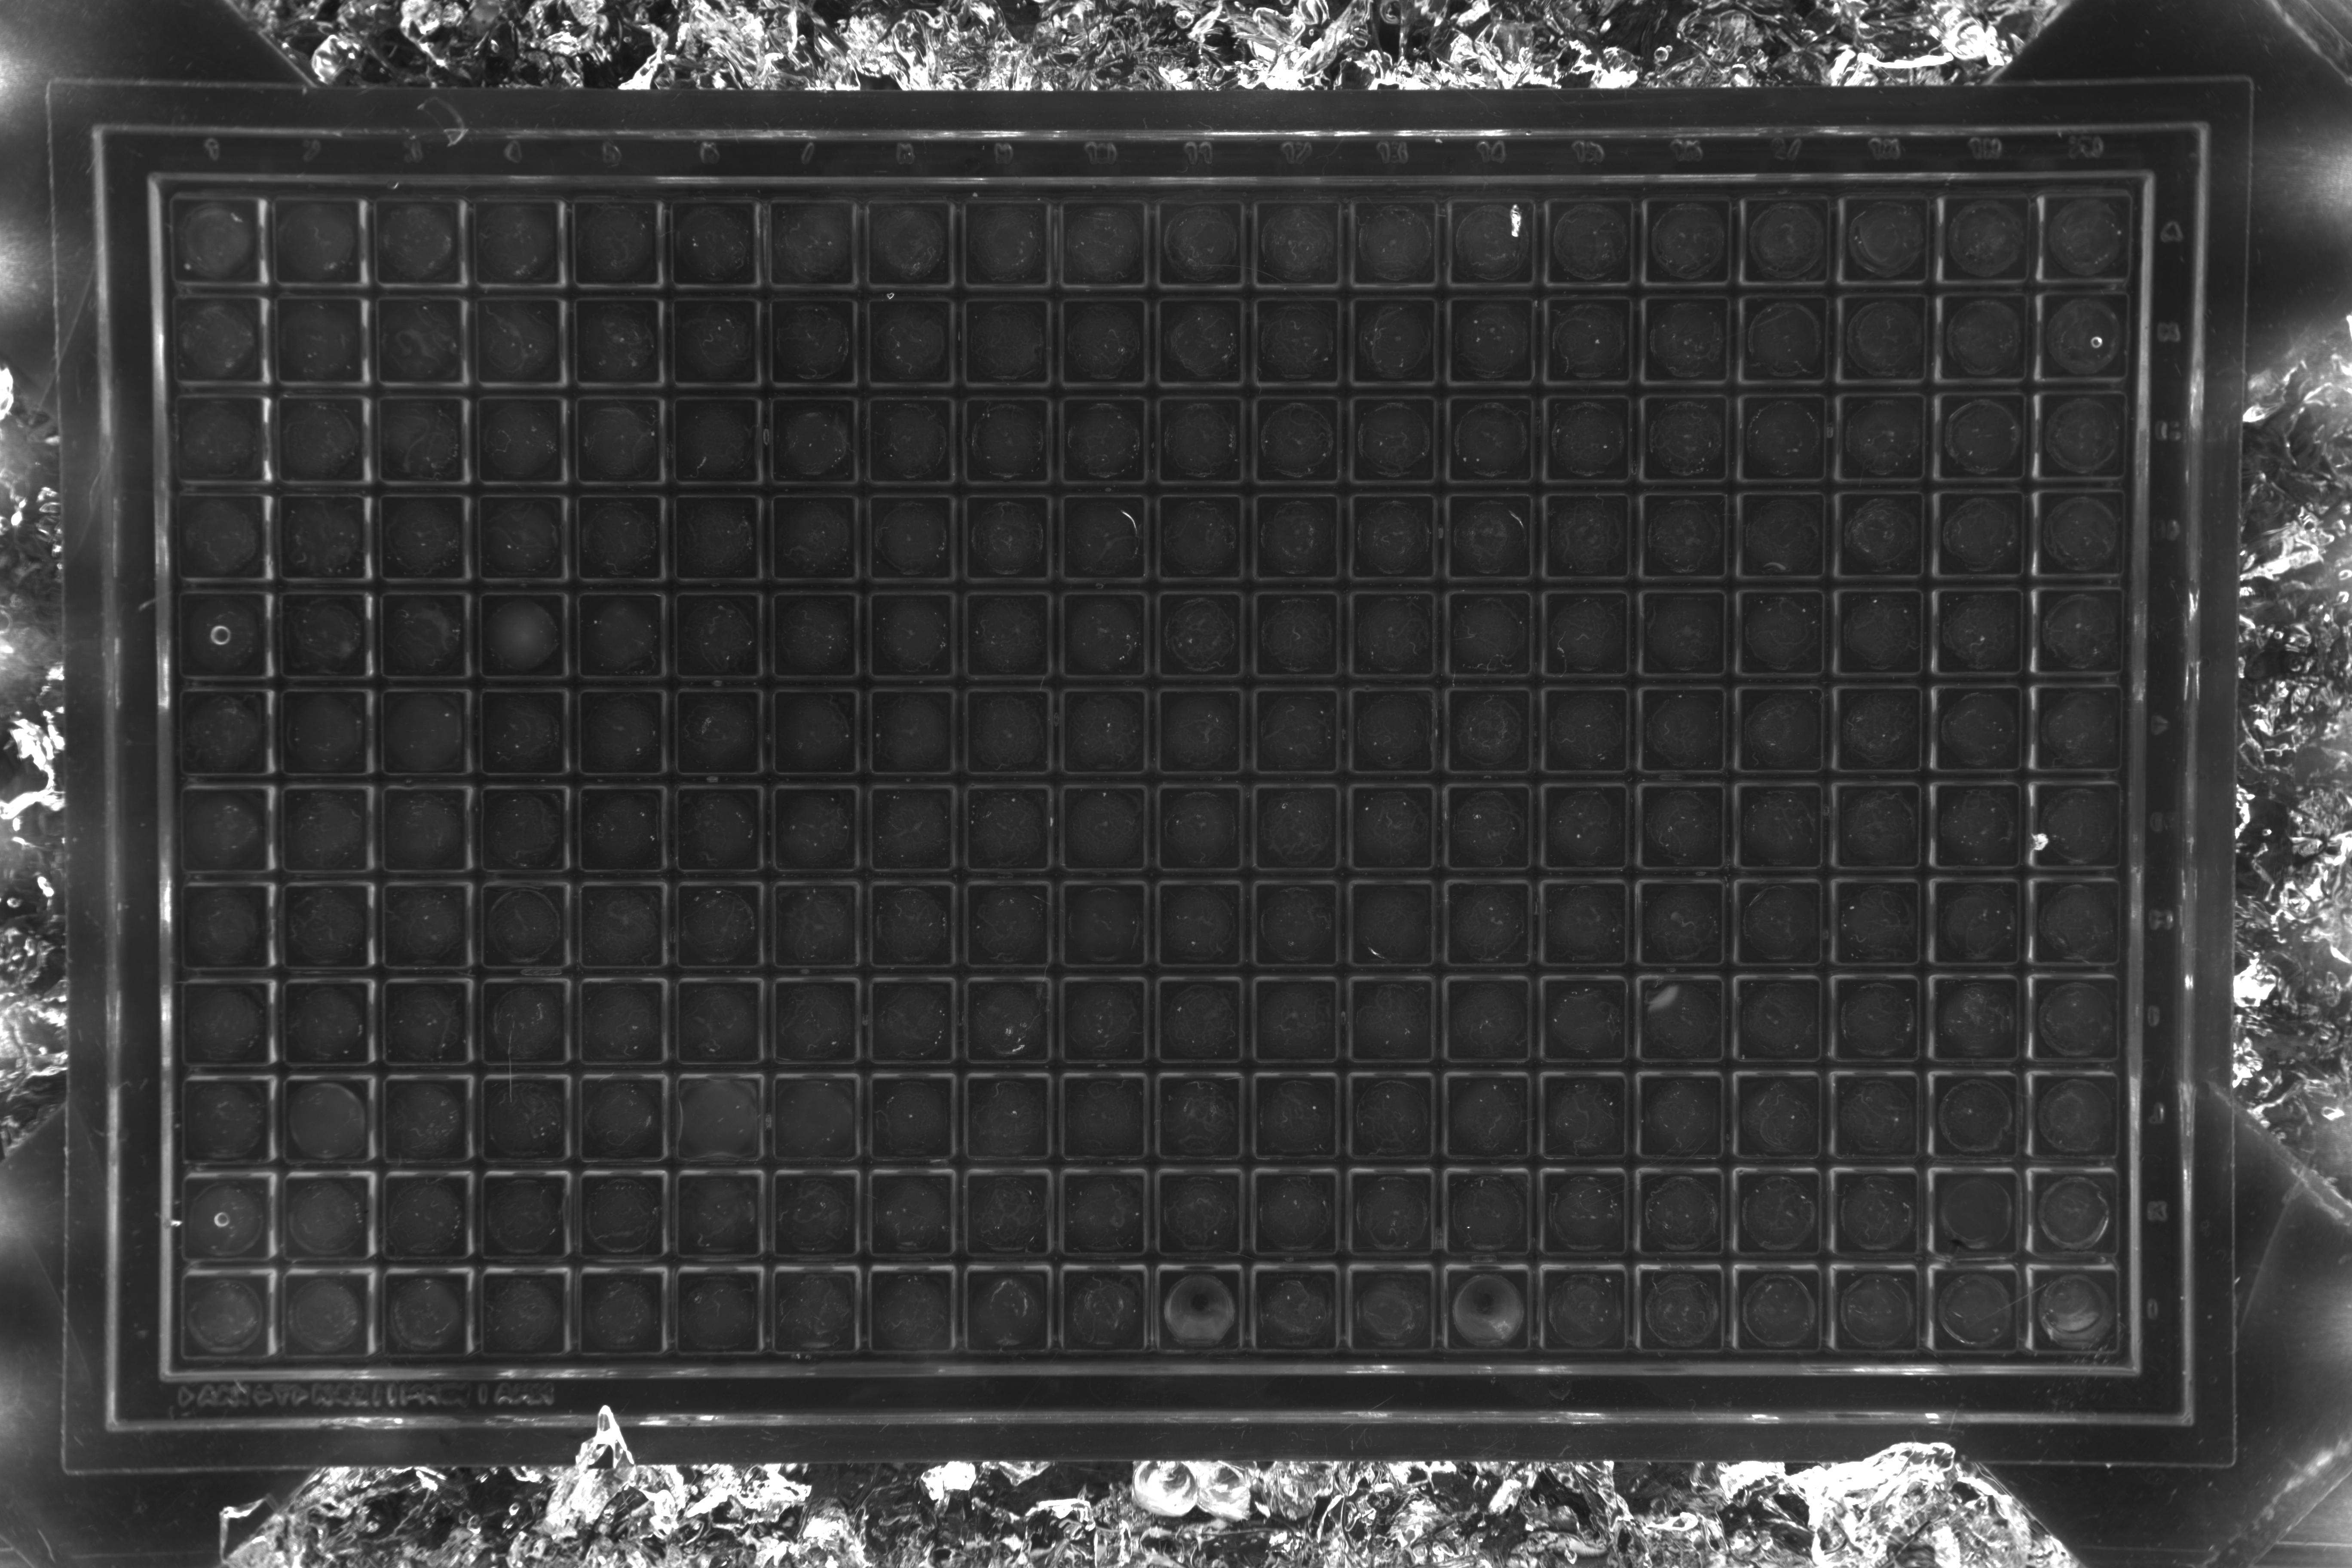WM_well: (299, 633, 388, 721), (497, 924, 586, 1011), (497, 1214, 586, 1302), (590, 436, 679, 523), (1272, 1209, 1360, 1298), (198, 436, 285, 523), (289, 138, 376, 226), (303, 1120, 390, 1207), (388, 138, 476, 226), (401, 926, 488, 1013), (595, 1116, 682, 1204), (693, 1213, 780, 1300), (784, 240, 871, 327), (789, 824, 877, 912), (983, 1113, 1071, 1200), (1078, 241, 1165, 329), (1274, 338, 1361, 425), (1563, 1113, 1650, 1200), (1563, 920, 1650, 1008), (1857, 1115, 1944, 1202), (1857, 1213, 1944, 1300), (1963, 329, 2051, 416), (2054, 1115, 2142, 1202)
